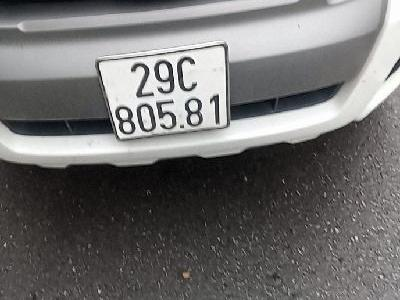lisence: (94, 41, 231, 142)
